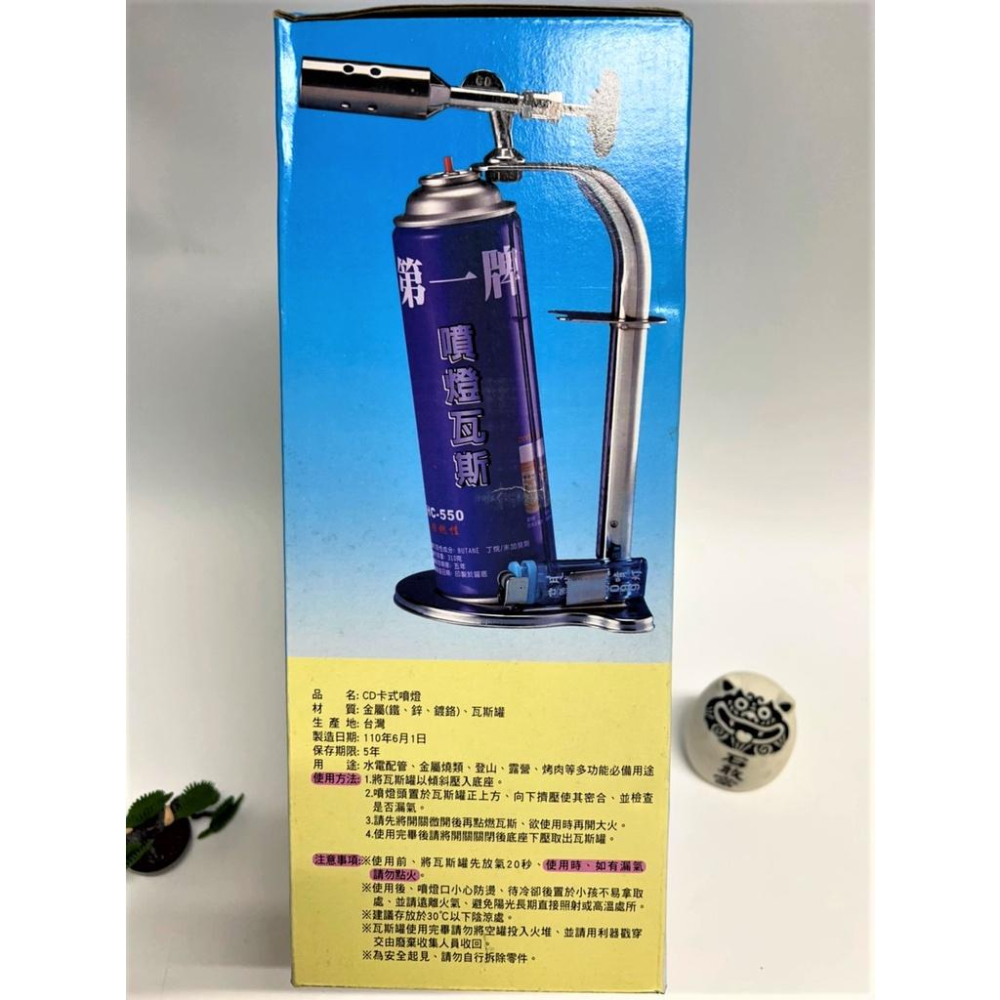gastorch: (299, 47, 656, 640)
